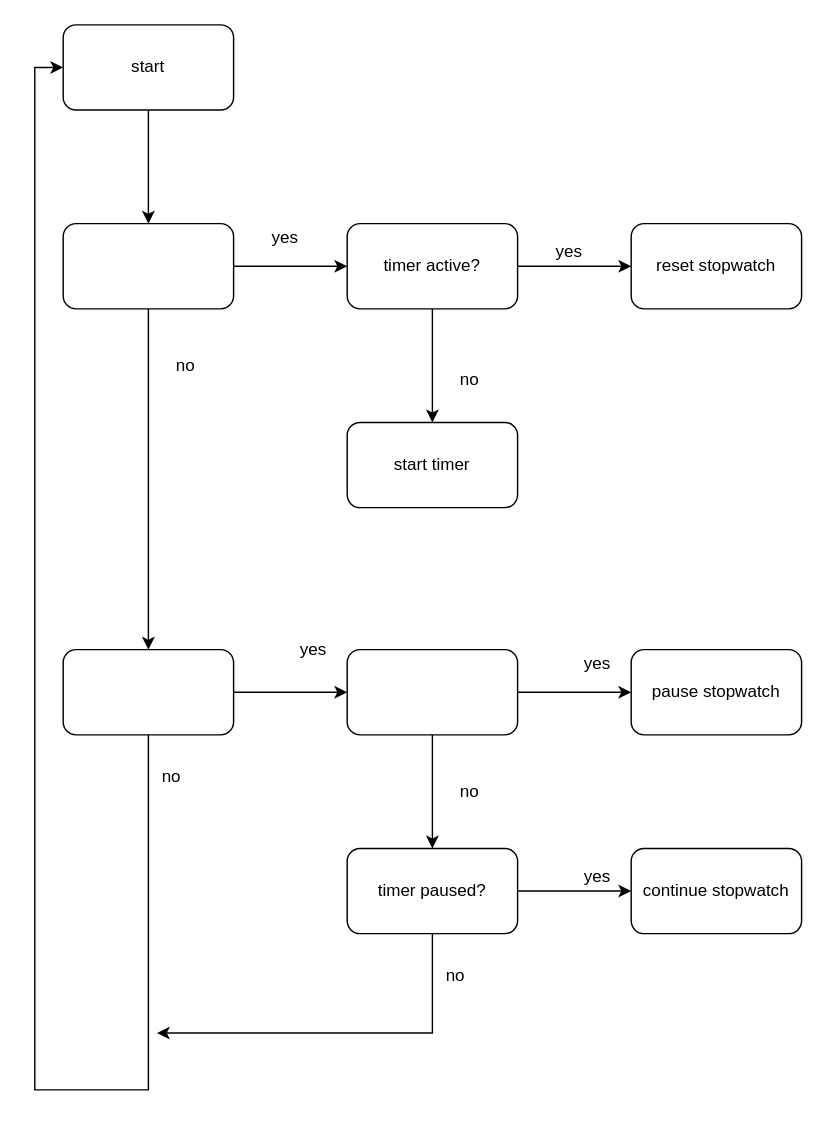
The diagram is 826 pixels wide and 1126 high, and some of its shapes have lost their labels. Here are the shapes that lost their labels. From the top down, the centre of each, then its label:
the point at 148,265: up button pressed?
the point at 148,691: down button pressed
the point at 432,691: timer running?
